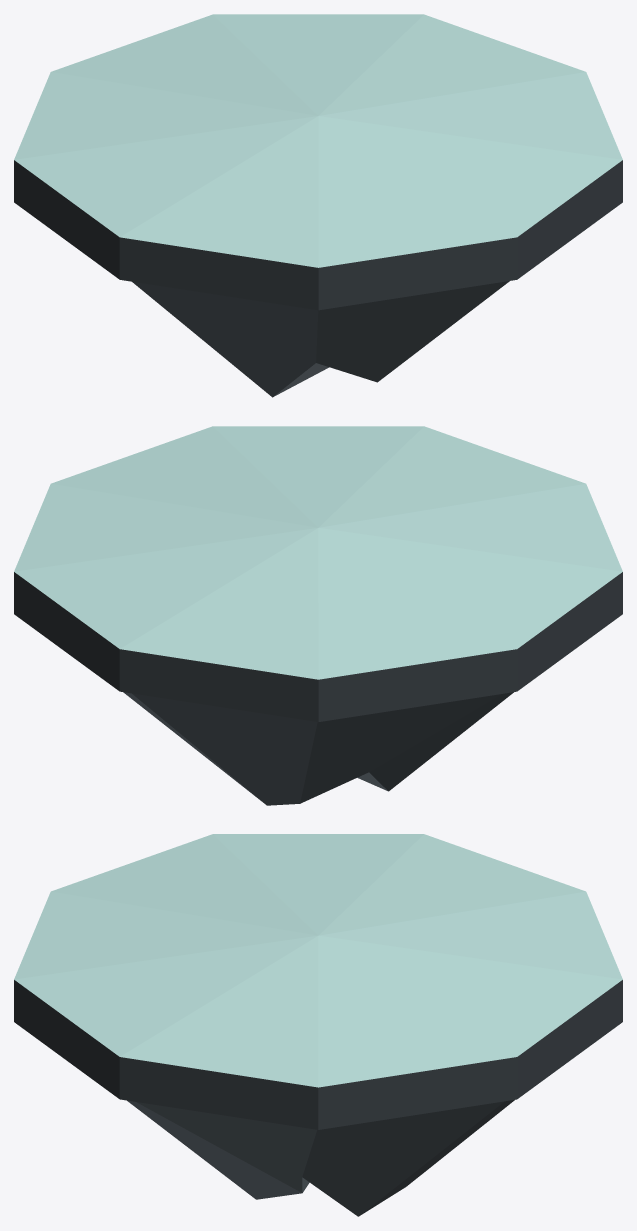
File: hill.glb
The picture shows the model from 3 angles, top to bottom: view 1: azimuth 30°, elevation 25°; view 2: azimuth 150°, elevation 25°; view 3: azimuth 270°, elevation 25°; orthographic projection.
Parts seen in each view (by area): view 1: Top, Under; view 2: Top, Under; view 3: Top, Under.
Part boxes in pixels (x1,y1,x2,y2): Top: [14, 14, 622, 310]; Under: [132, 281, 509, 397]; Top: [14, 426, 622, 721]; Under: [123, 692, 513, 805]; Top: [14, 834, 622, 1129]; Under: [127, 1100, 514, 1216].
Size of the model in its own units: 6.4 by 3.04 by 6.5.
